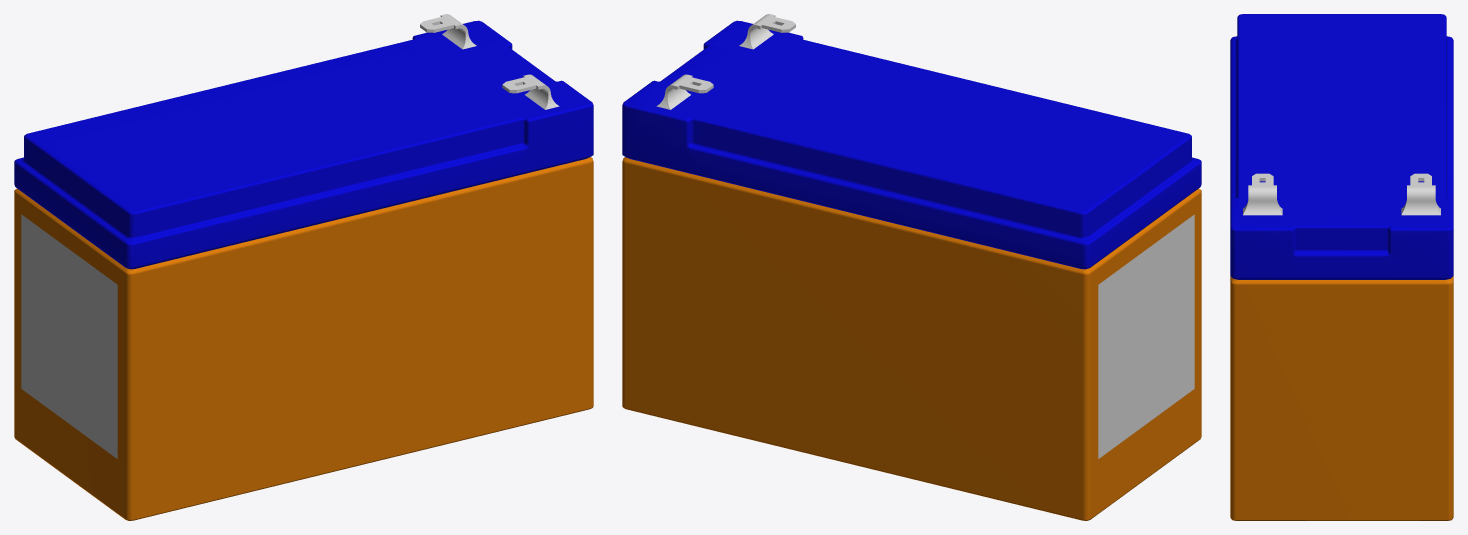
File: Аккумулятор ИБП 9Ah.fbx
3 renders of one model, left to right at view 1: azimuth 30°, elevation 25°; view 2: azimuth 150°, elevation 25°; view 3: azimuth 270°, elevation 25°, orthographic. The views are drawn at different scales.
Visible parts, largest first — view 1: AKB_korpus, Plane_9Ah, AKB_klemma_plus, AKB_klemma_minus; view 2: AKB_korpus, Plane_9Ah, AKB_klemma_minus, AKB_klemma_plus; view 3: AKB_korpus, AKB_klemma_minus, AKB_klemma_plus.
Boxes of the visible parts, bbox=[...] form: AKB_korpus: bbox=[14, 20, 593, 520]; Plane_9Ah: bbox=[21, 214, 117, 458]; AKB_klemma_plus: bbox=[502, 74, 559, 109]; AKB_klemma_minus: bbox=[420, 14, 476, 49]; AKB_korpus: bbox=[622, 20, 1201, 520]; Plane_9Ah: bbox=[1098, 214, 1194, 458]; AKB_klemma_minus: bbox=[656, 74, 713, 109]; AKB_klemma_plus: bbox=[739, 14, 795, 49]; AKB_korpus: bbox=[1230, 14, 1453, 520]; AKB_klemma_minus: bbox=[1401, 173, 1440, 215]; AKB_klemma_plus: bbox=[1243, 173, 1282, 215].
Size of the model in its own units: 15.12 by 10.08 by 6.5.
